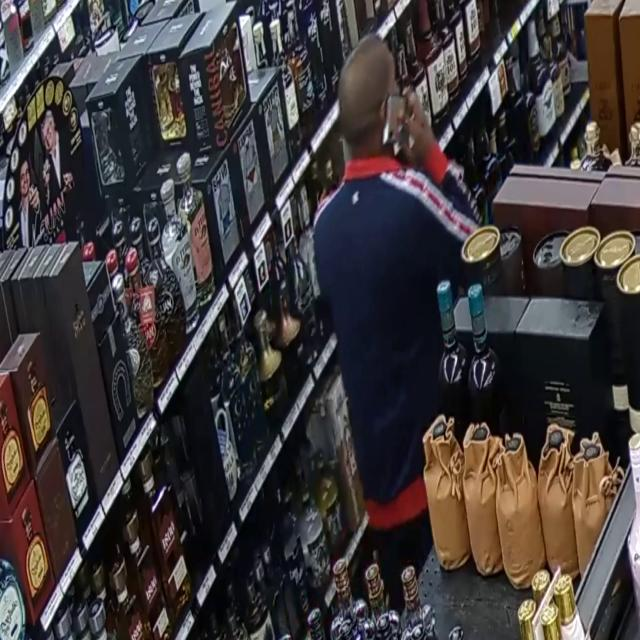normal: (280, 3, 517, 519)
